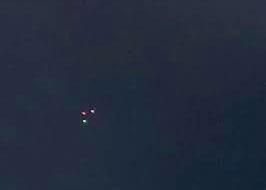Plane: (65, 100, 107, 128)
